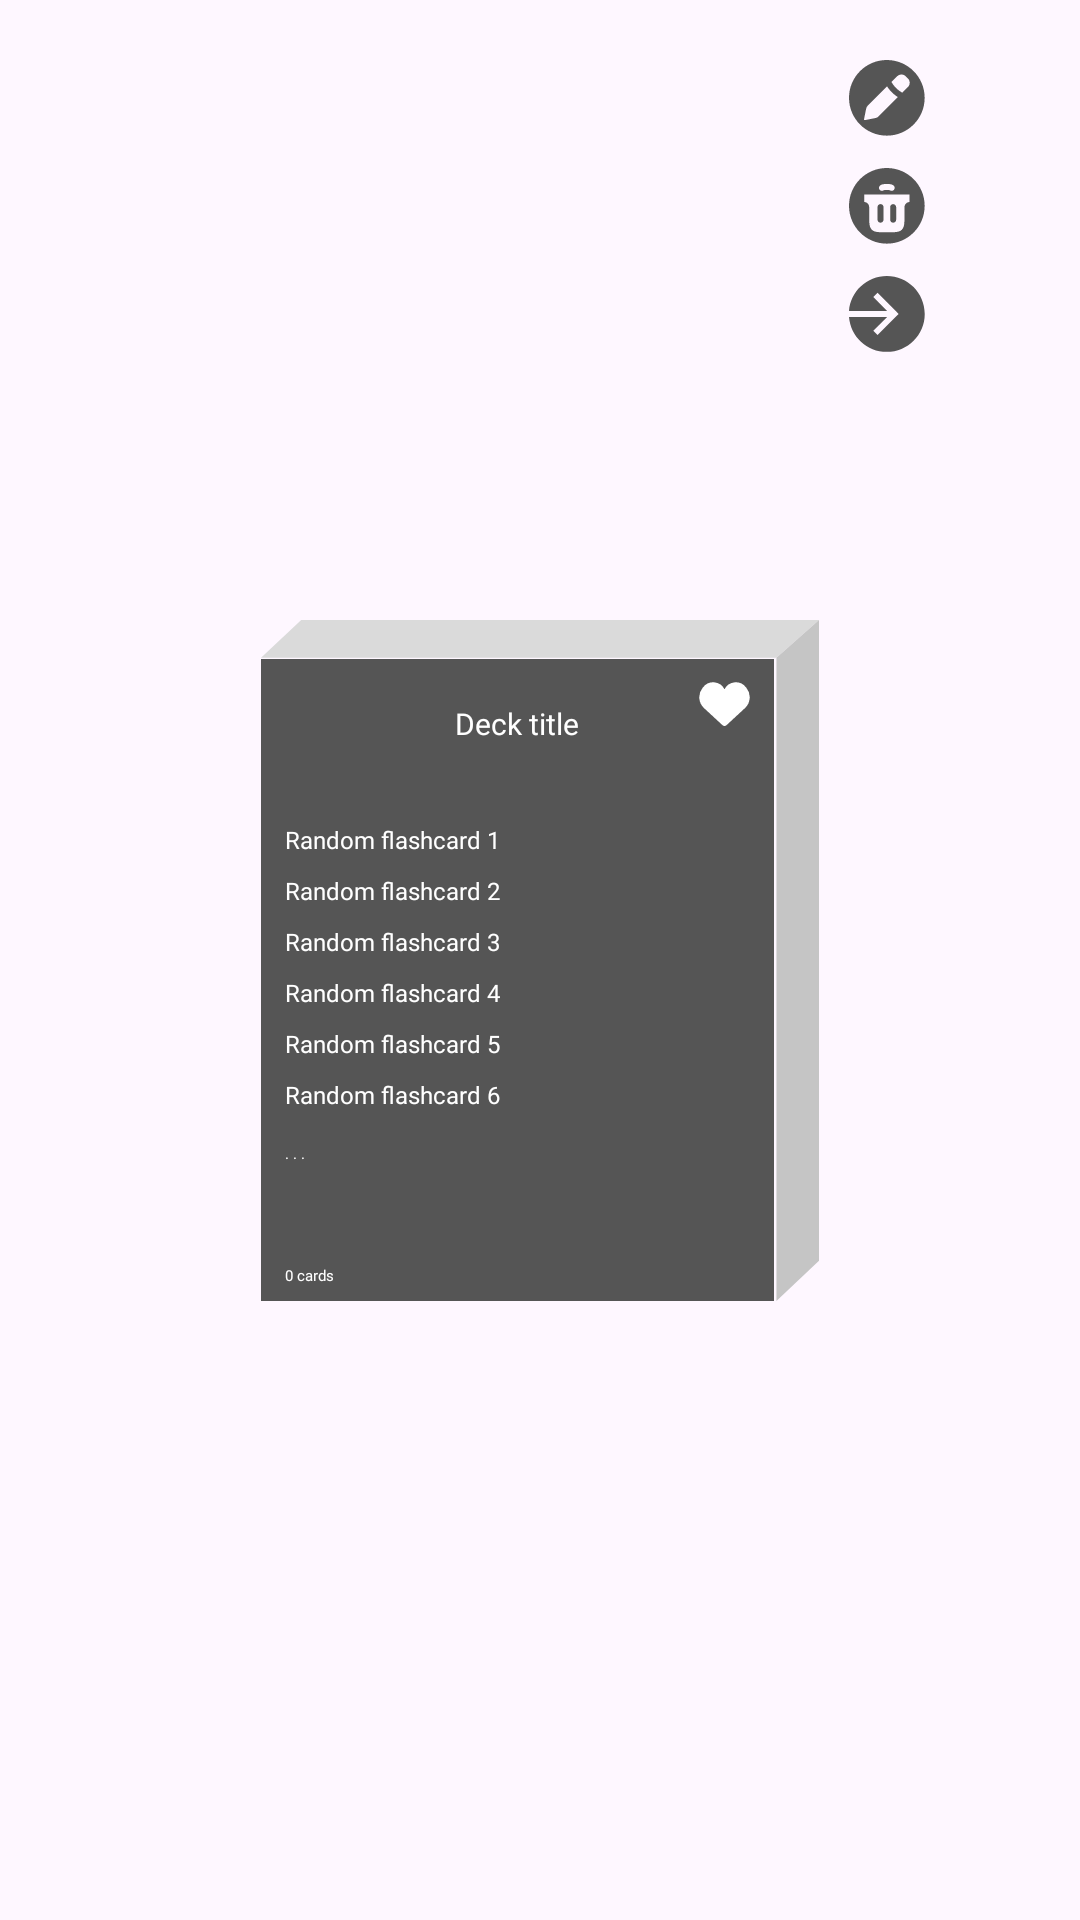

Named icons in this screenshot (1080 × 1920) and their bounding boxes, (x1, y1, x2, y2):
favorite: (699, 682, 750, 726)
go delete favs: (849, 168, 925, 244)
go details favs: (849, 276, 925, 352)
go edit favs: (849, 60, 925, 136)
